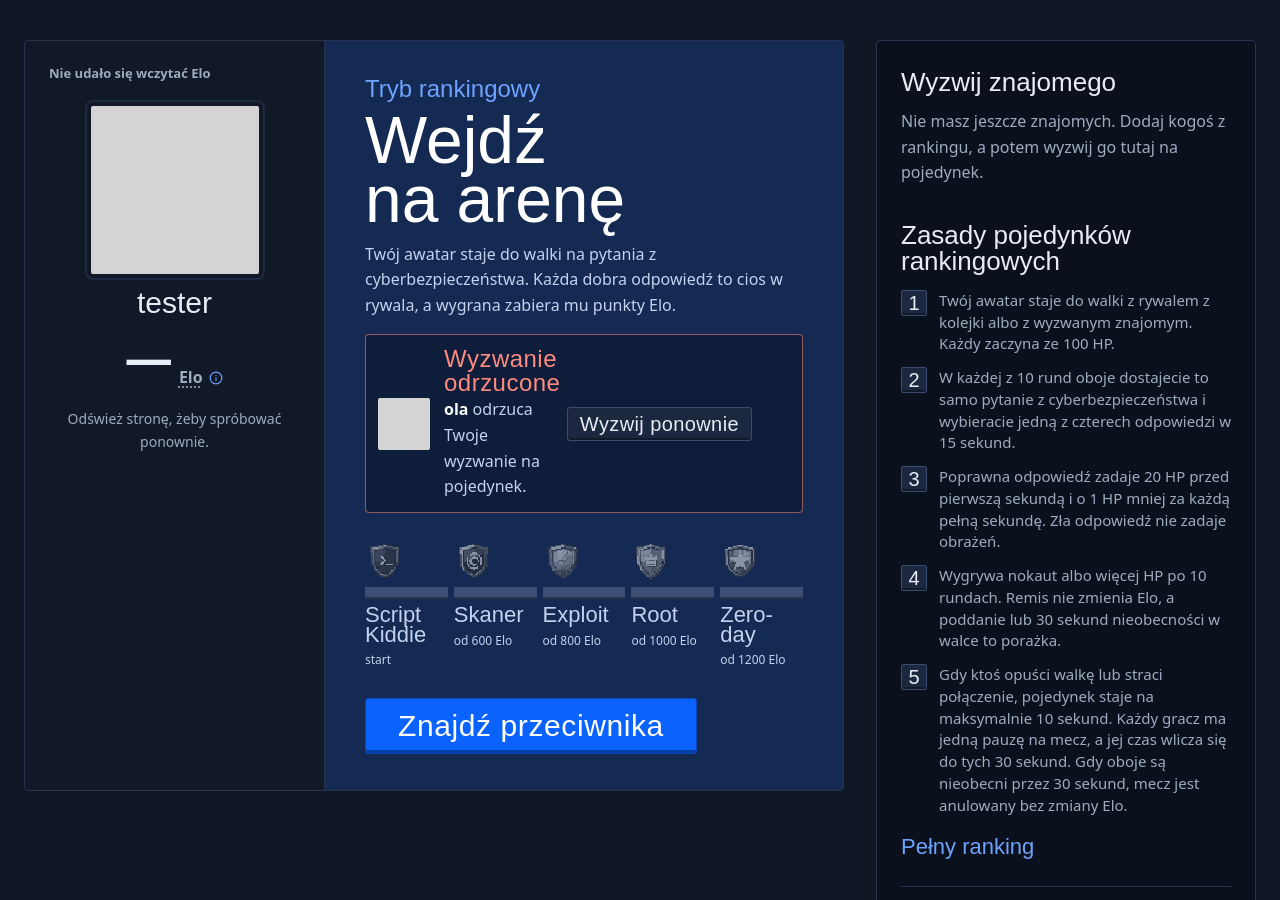
Scenario: explains on the card why the retry failed
Click the button "Wyzwij ponownie".
click(659, 424)  # box [567,407,752,441]
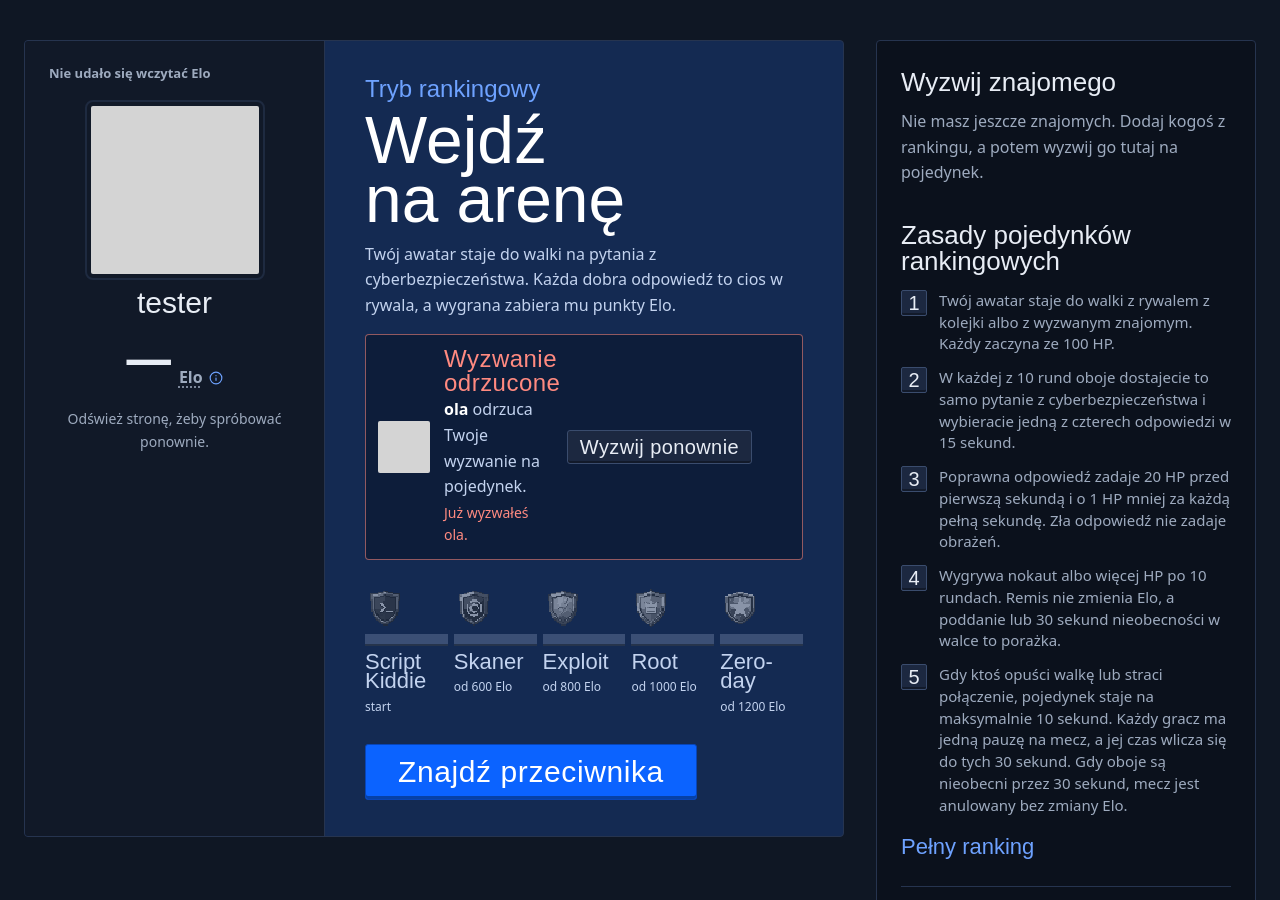
Result: the message "Już wyzwałeś ola." is shown at [444,503,528,544]
